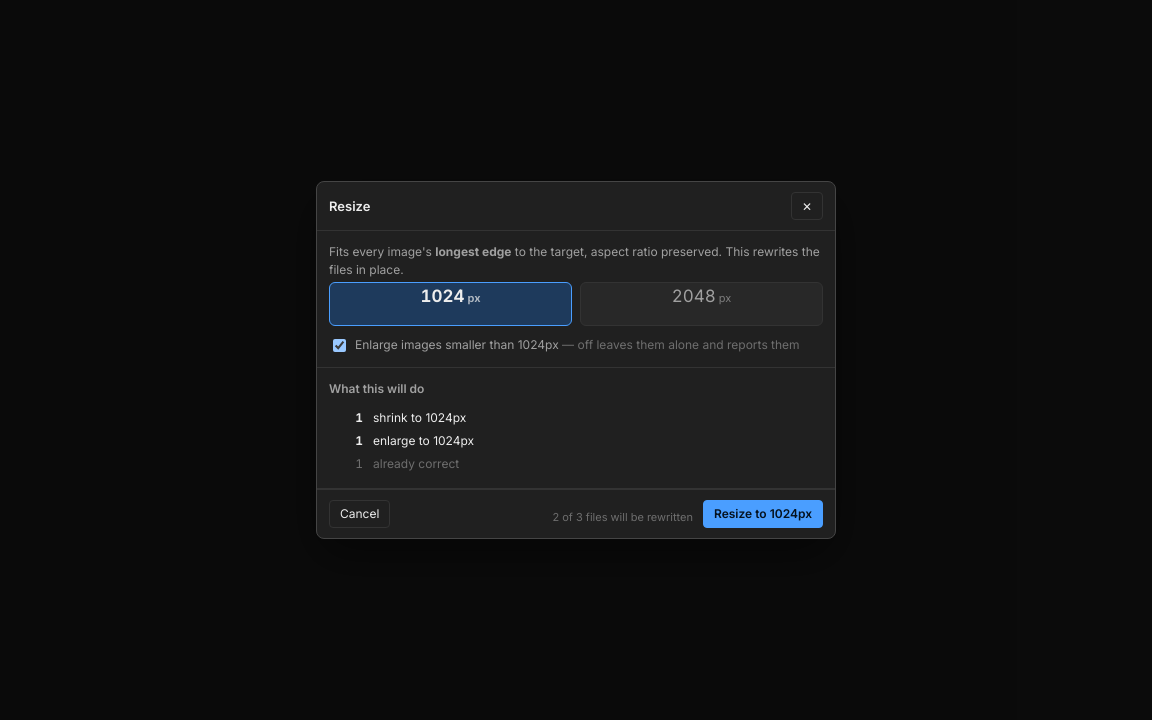
Test: the resize dialog › reports images it will not enlarge rather than counting them as work
The image size is (1152, 720).
Click the checkbox.
click(340, 346)  # box [333,339,346,352]
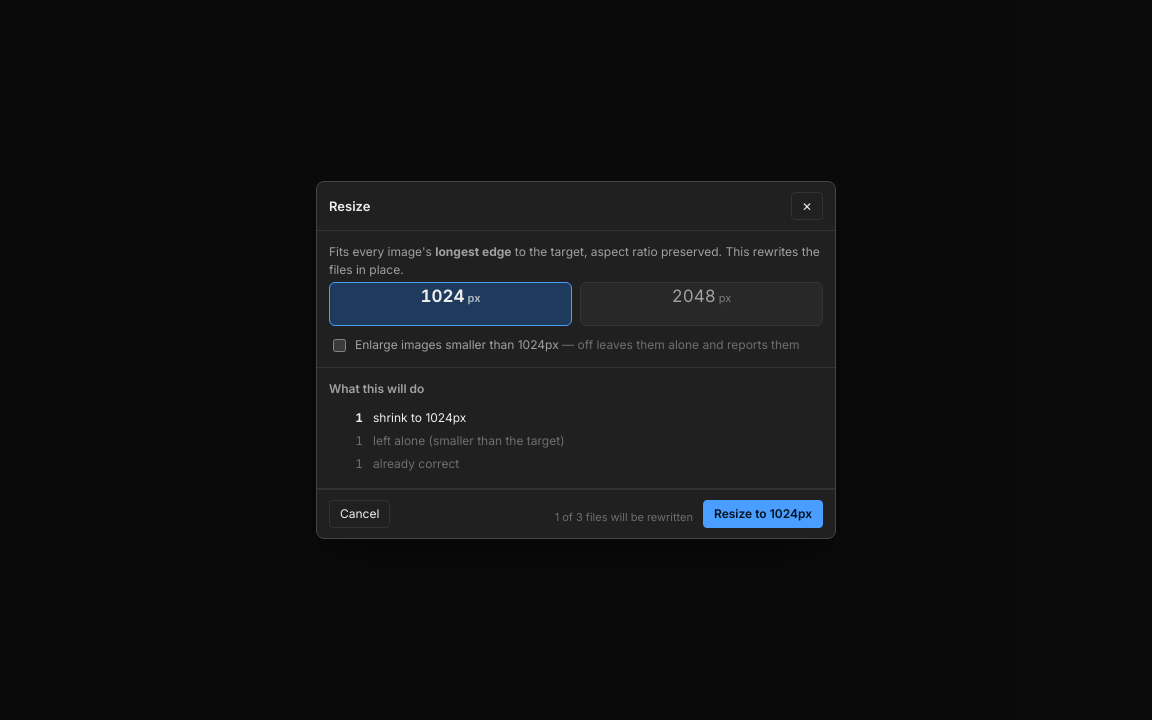
Expected: the text "left alone (smaller than the target)" is shown, [373,432,564,449]
Expected: the text "1 of 3 files will be rewritten" is shown, [555,510,693,526]
